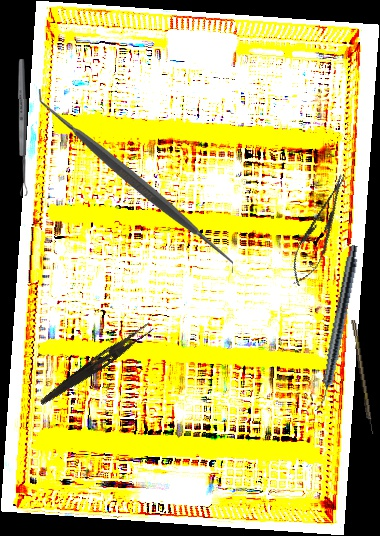Dressing Forceps: (38, 317, 155, 412)
Handpiece: (313, 243, 361, 414)
Hook Surgical: (350, 319, 375, 435)
Needle Holder: (283, 169, 357, 291)
Spatula Surgical: (39, 89, 233, 273)
Surgical Spoon: (16, 58, 29, 197)
